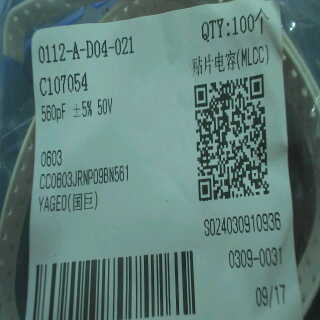560pF: (36, 101, 68, 124)
